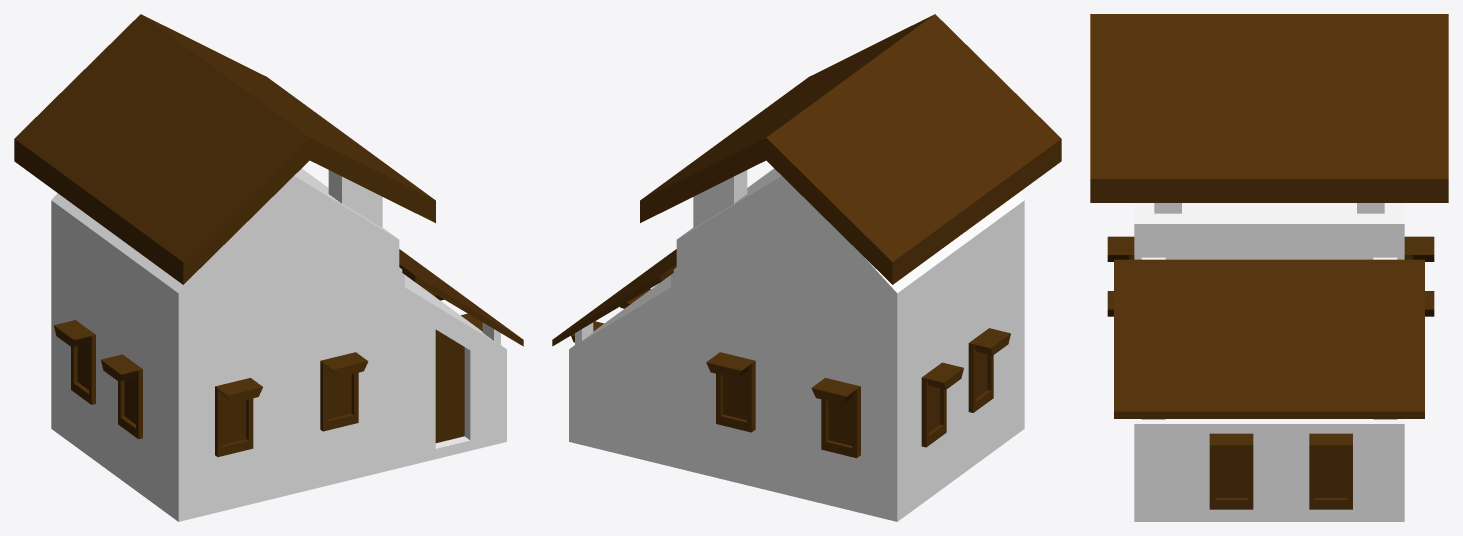
The model's file is house2.obj.
3 renders of one model, left to right at view 1: azimuth 30°, elevation 25°; view 2: azimuth 150°, elevation 25°; view 3: azimuth 270°, elevation 25°, orthographic. The views are drawn at different scales.
Visible parts, largest first — view 1: house1_Cube.015; view 2: house1_Cube.015; view 3: house1_Cube.015.
Boxes of the visible parts, <box> form: house1_Cube.015: <box>14,14,523,521</box>; house1_Cube.015: <box>552,14,1061,521</box>; house1_Cube.015: <box>1090,14,1448,521</box>.
Bounding box in the file's own units: 8.45 × 8.07 × 6.63.
Materials: 1 (1 with a texture image).
